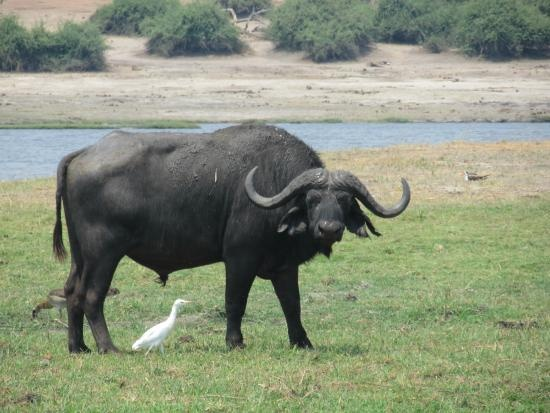buffalo: (51, 121, 412, 354)
